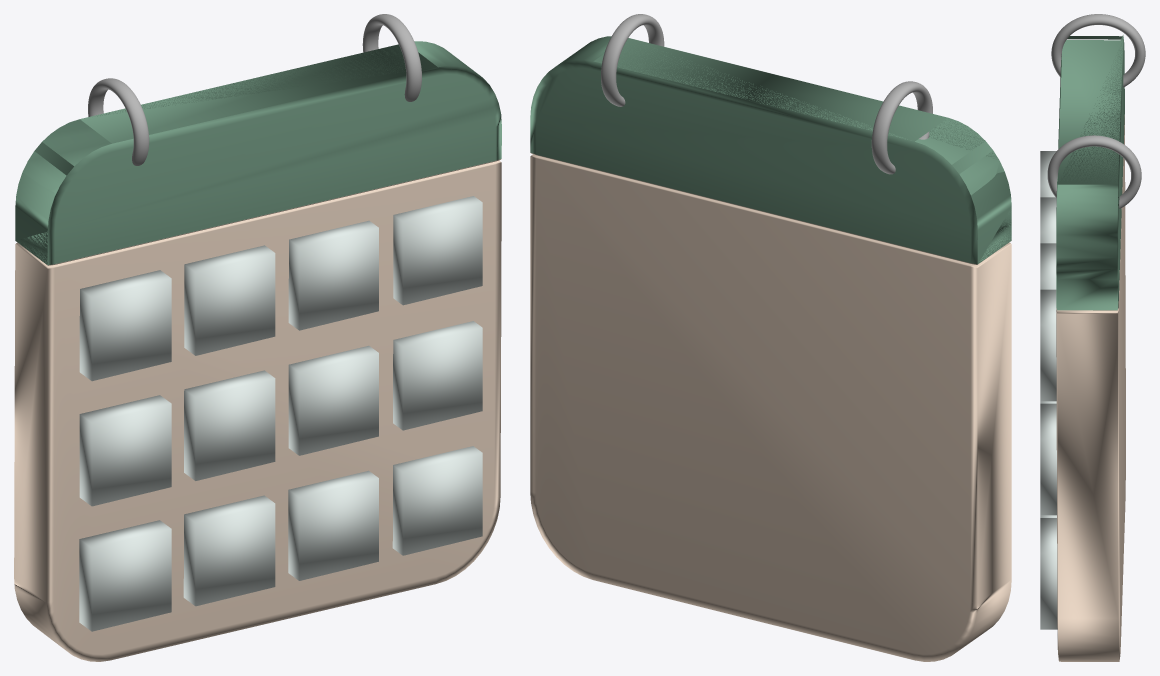
Rendered from calendar.fbx.
3 views of the same model, side by side, from view 1: azimuth 30°, elevation 25°; view 2: azimuth 150°, elevation 25°; view 3: azimuth 270°, elevation 25° (orthographic). The views are drawn at different scales.
Visible parts, largest first — view 1: Cube.002; view 2: Cube.002; view 3: Cube.002.
Boxes of the visible parts, x1,y1,x2,y2 form: Cube.002: (14,14,501,661); Cube.002: (530,14,1011,661); Cube.002: (1040,14,1145,661).
Size of the model in its own units: 201 by 237 by 44.37.
